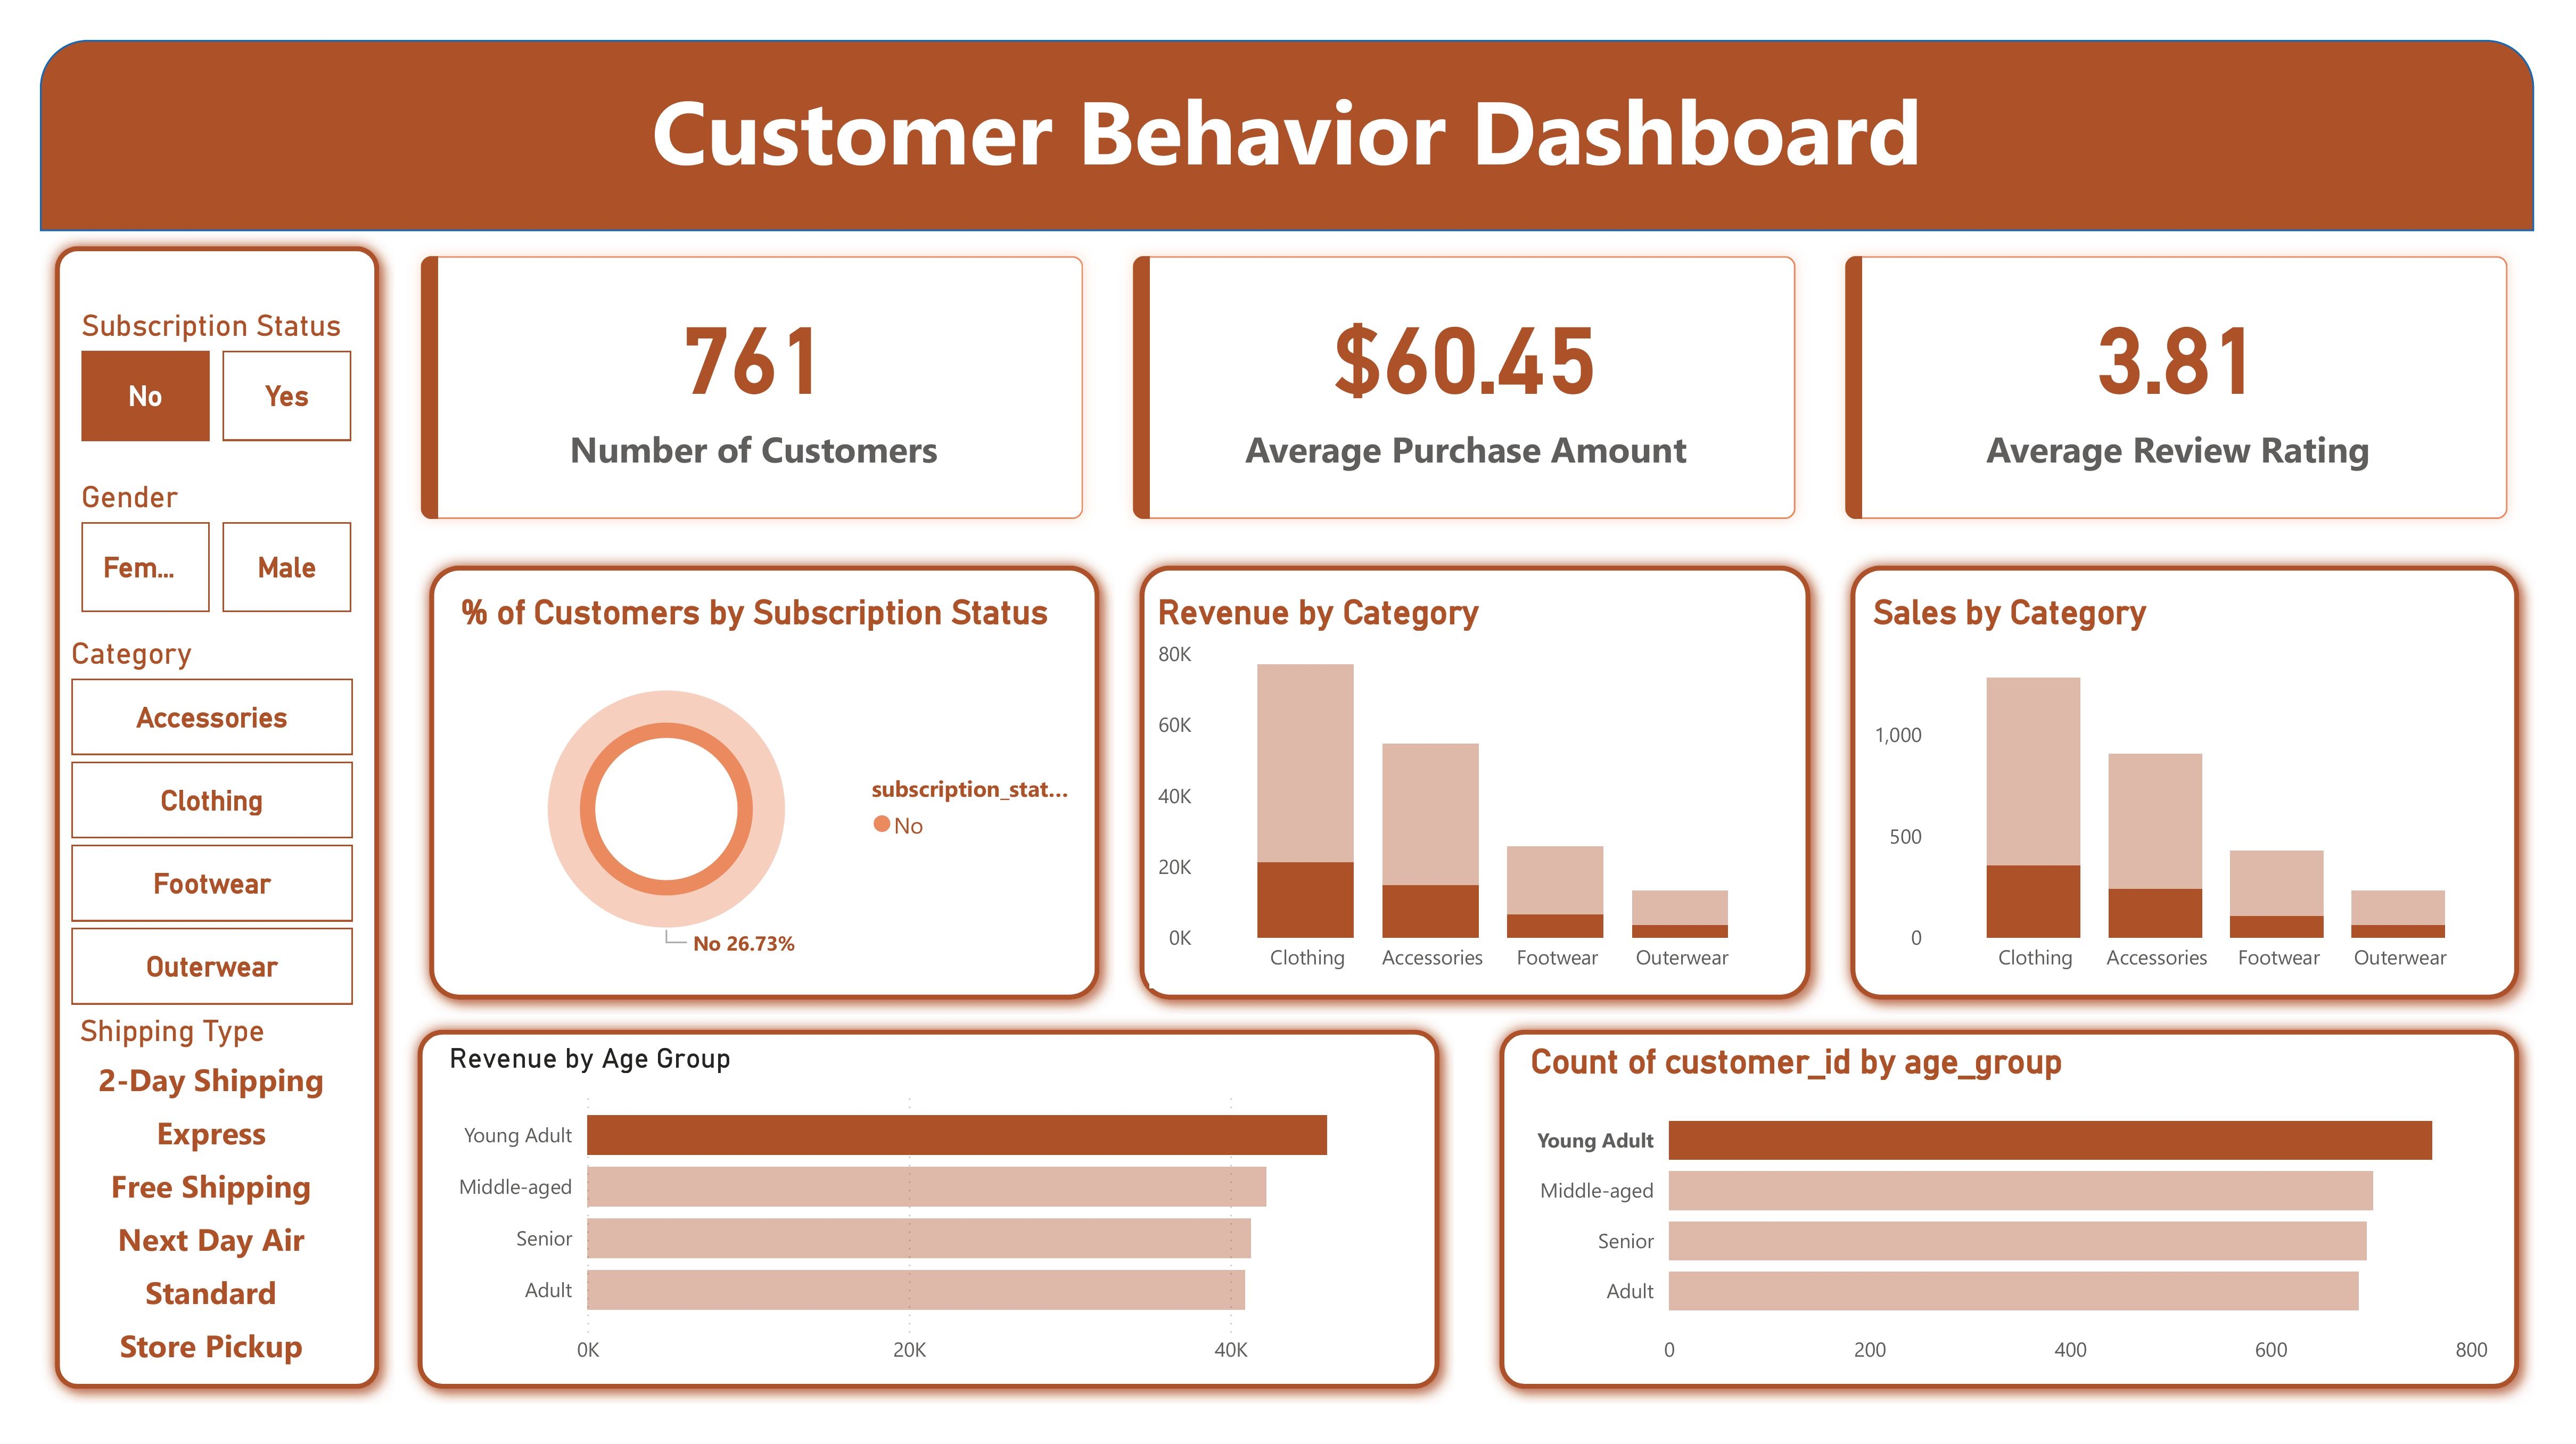

Layout of this report page (visuals, bound fields, positions):
{"tool":"powerbi","page":{"name":"Page 1","canvas":[1500,820],"ordinal":0},"visuals":[{"type":"cardVisual","fields":{"Data":["public customer.Number of Customers","public customer.Average Purchase Amount","public customer.Average Review Rating"]},"box":[213.1,114.2,1286.8,190.8],"z":2000},{"type":"shape","box":[218.3,585.6,631.7,234.2],"z":2500,"group":"g1"},{"type":"shape","box":[0,0,1499.4,115.3],"z":3000},{"type":"textbox","box":[0,12.4,1499.4,102],"z":4000},{"type":"shape","box":[225.4,307,420.5,278.6],"z":5000},{"type":"donutChart","title":"% of Customers by Subscription Status","fields":{"Category":["public customer.subscription_status"],"Y":["CountNonNull(public customer.customer_id)"]},"box":[248.4,331.8,376.2,237.8],"z":6000},{"type":"shape","box":[1078.9,307,420.5,278.6],"z":7000},{"type":"shape","box":[652.1,307,420.5,278.6],"z":8000},{"type":"clusteredColumnChart","title":"Revenue by Category","fields":{"Y":["Sum(public customer.purchase_amount)"],"Category":["public customer.category"]},"box":[667.2,331.8,385.1,237.8],"z":9000},{"type":"clusteredColumnChart","title":"Sales by Category","fields":{"Y":["CountNonNull(public customer.customer_id)"],"Category":["public customer.category"]},"box":[1096.6,331.8,385.1,237.8],"z":10000},{"type":"shape","box":[0,115.3,212.9,704.5],"z":11000},{"type":"advancedSlicerVisual","fields":{"Values":["public customer.subscription_status"]},"box":[19.5,161.5,173.9,85.2],"z":12000},{"type":"advancedSlicerVisual","fields":{"Values":["public customer.gender"]},"box":[19.5,264.4,173.9,85.2],"z":13000},{"type":"advancedSlicerVisual","fields":{"Values":["public customer.category"]},"box":[13.9,357.9,179.7,227],"z":14000},{"type":"listSlicer","fields":{"Values":["public customer.shipping_type"]},"box":[19.5,584.9,168.5,221.4],"z":15000},{"type":"shape","box":[867.7,585.6,631.7,234.2],"z":16000},{"type":"clusteredBarChart","fields":{"Y":["CountNonNull(public customer.customer_id)"],"Category":["public customer.age_group"]},"box":[890.8,601.5,585.6,204.1],"z":17000},{"type":"clusteredBarChart","title":"Revenue by Age Group","fields":{"Y":["Sum(public customer.purchase_amount)"],"Category":["public customer.age_group"]},"box":[241.4,601.6,585.6,204.1],"z":17500,"group":"g1"},{"type":"group","id":"g1","title":"Group 1","box":[218.3,585.6,631.7,234.2],"z":17501}]}

Visuals, with their boxes in screenshot pixels (x1, y1, x2, y2):
cardVisual - public customer.Number of Customers x public customer.Average Purchase Amount: [394, 230, 2536, 547]
shape: [403, 1014, 1454, 1404]
shape: [40, 40, 2535, 232]
textbox: [40, 61, 2535, 230]
shape: [415, 551, 1115, 1014]
"% of Customers by Subscription Status" donutChart: [454, 592, 1080, 987]
shape: [1836, 551, 2535, 1014]
shape: [1125, 551, 1825, 1014]
"Revenue by Category" clusteredColumnChart: [1150, 592, 1791, 987]
"Sales by Category" clusteredColumnChart: [1865, 592, 2506, 987]
shape: [40, 232, 394, 1404]
advancedSlicerVisual - public customer.subscription_status: [72, 309, 362, 450]
advancedSlicerVisual - public customer.gender: [72, 480, 362, 622]
advancedSlicerVisual - public customer.category: [63, 636, 362, 1013]
listSlicer - public customer.shipping_type: [72, 1013, 353, 1381]
shape: [1484, 1014, 2535, 1404]
clusteredBarChart - CountNonNull(public customer.customer_id) x public customer.age_group: [1522, 1041, 2497, 1380]
"Revenue by Age Group" clusteredBarChart: [442, 1041, 1416, 1380]
"Group 1" group: [403, 1014, 1454, 1404]
